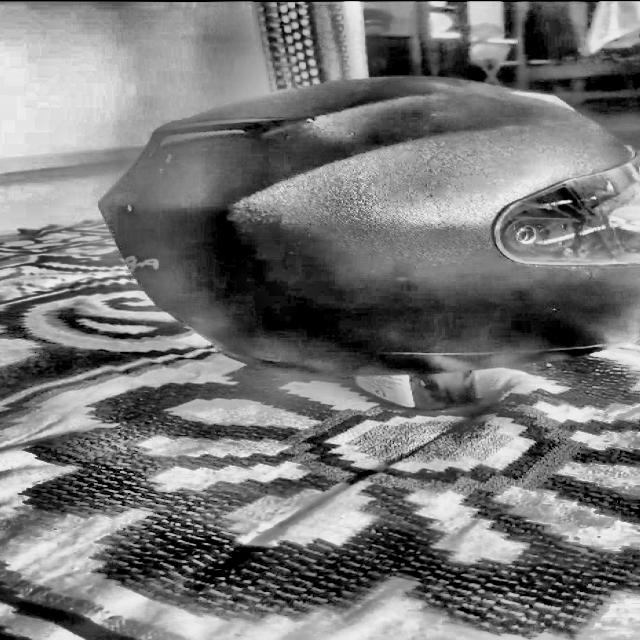Helmet: (101, 75, 640, 375)
